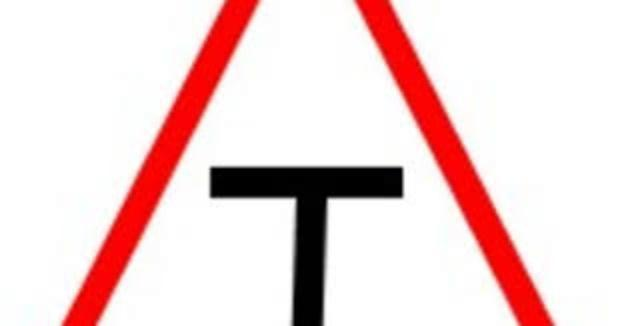fork_road: (56, 1, 561, 325)
